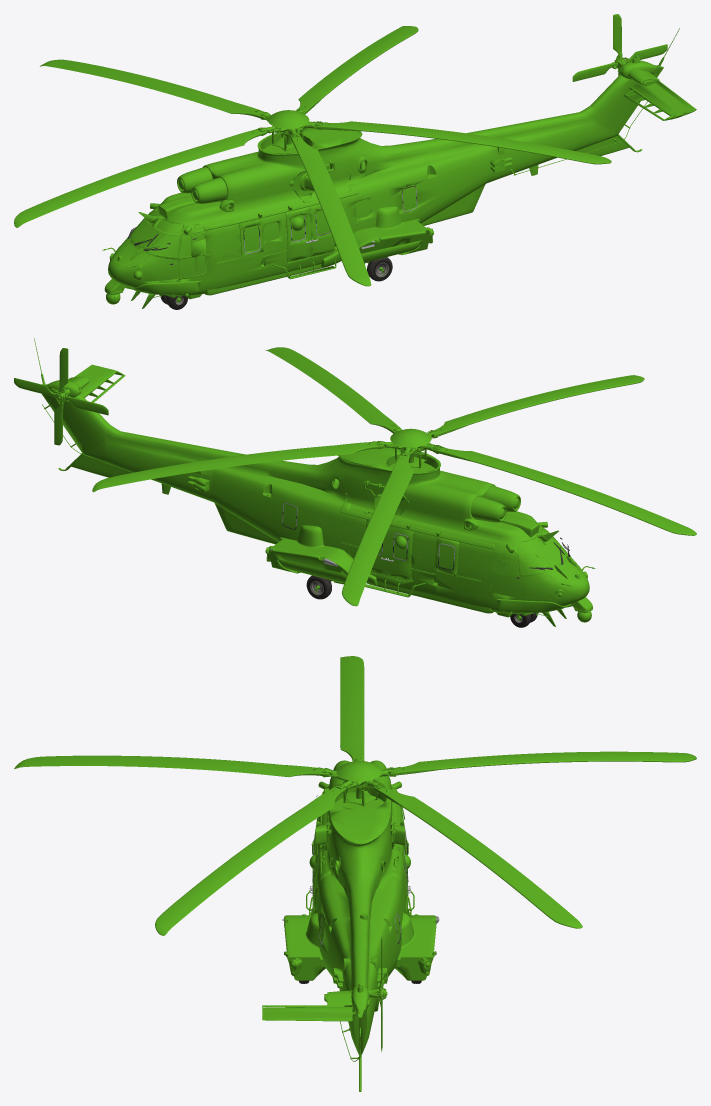
3 views of the same model, one above another, from view 1: azimuth 30°, elevation 25°; view 2: azimuth 150°, elevation 25°; view 3: azimuth 270°, elevation 25° (orthographic). The views are drawn at different scales.
Parts seen in each view (by area): view 1: AM84_018_00, AM84_018_31, AM84_018_08, AM84_018_27, AM84_018_30; view 2: AM84_018_00, AM84_018_31, AM84_018_08, AM84_018_27, AM84_018_30; view 3: AM84_018_00, AM84_018_31.
Boxes of the visible parts, <box> form: AM84_018_00: <box>102,28,696,308</box>; AM84_018_31: <box>14,26,611,286</box>; AM84_018_08: <box>125,184,416,281</box>; AM84_018_27: <box>572,14,667,81</box>; AM84_018_30: <box>160,257,392,309</box>; AM84_018_00: <box>34,338,595,626</box>; AM84_018_31: <box>92,347,696,606</box>; AM84_018_08: <box>283,503,573,599</box>; AM84_018_27: <box>14,348,108,445</box>; AM84_018_30: <box>306,575,537,627</box>; AM84_018_00: <box>262,760,436,1091</box>; AM84_018_31: <box>14,656,696,935</box>.
Bounding box in the file's own units: 1960691 × 490325 × 1564785.
7 materials, 3 textured.
